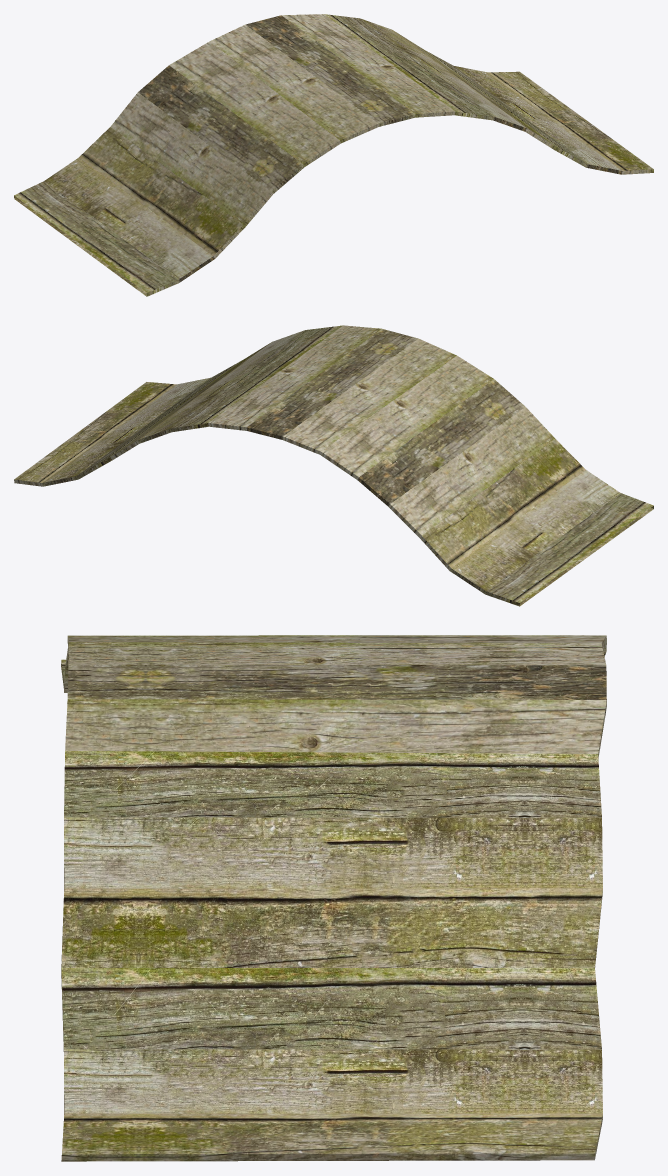
The model's file is ramp_____2_colider.fbx.
3 renders of one model, top to bottom at view 1: azimuth 30°, elevation 25°; view 2: azimuth 150°, elevation 25°; view 3: azimuth 270°, elevation 25°, orthographic. The views are drawn at different scales.
Parts seen in each view (by area): view 1: ramp____2_; view 2: ramp____2_; view 3: ramp____2_.
Part boxes in pixels (box(x1,y1,x2,y2)): ramp____2_: box(14, 14, 653, 296); ramp____2_: box(14, 325, 653, 606); ramp____2_: box(61, 635, 606, 1161).
Bounding box in the file's own units: 438 × 95.51 × 204.
